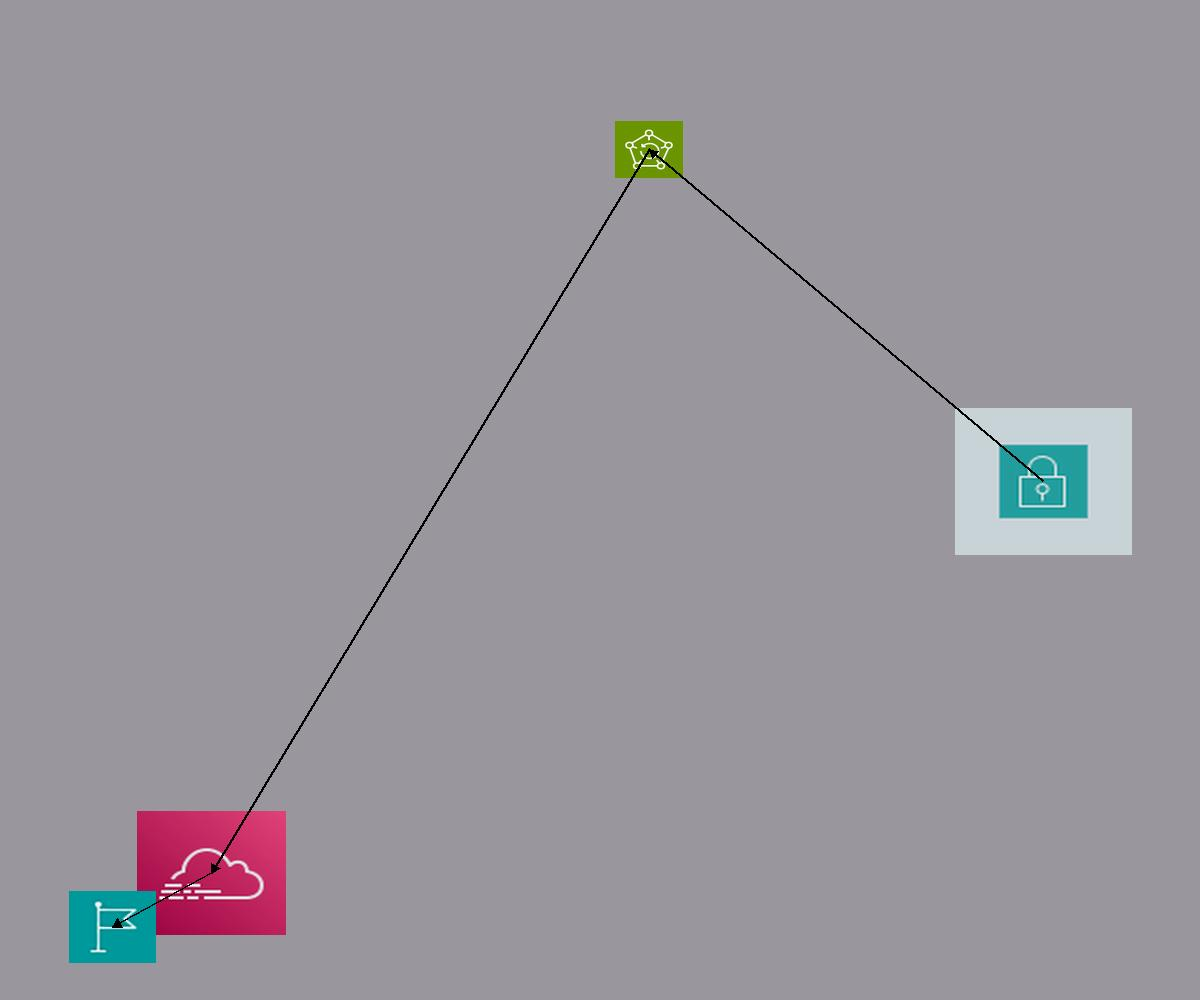AWS-Backup: (615, 121, 683, 178)
AWS-CloudTrail: (137, 811, 286, 935)
AWS-Private-subnet: (955, 408, 1132, 555)
AWS-Region: (69, 891, 156, 963)
